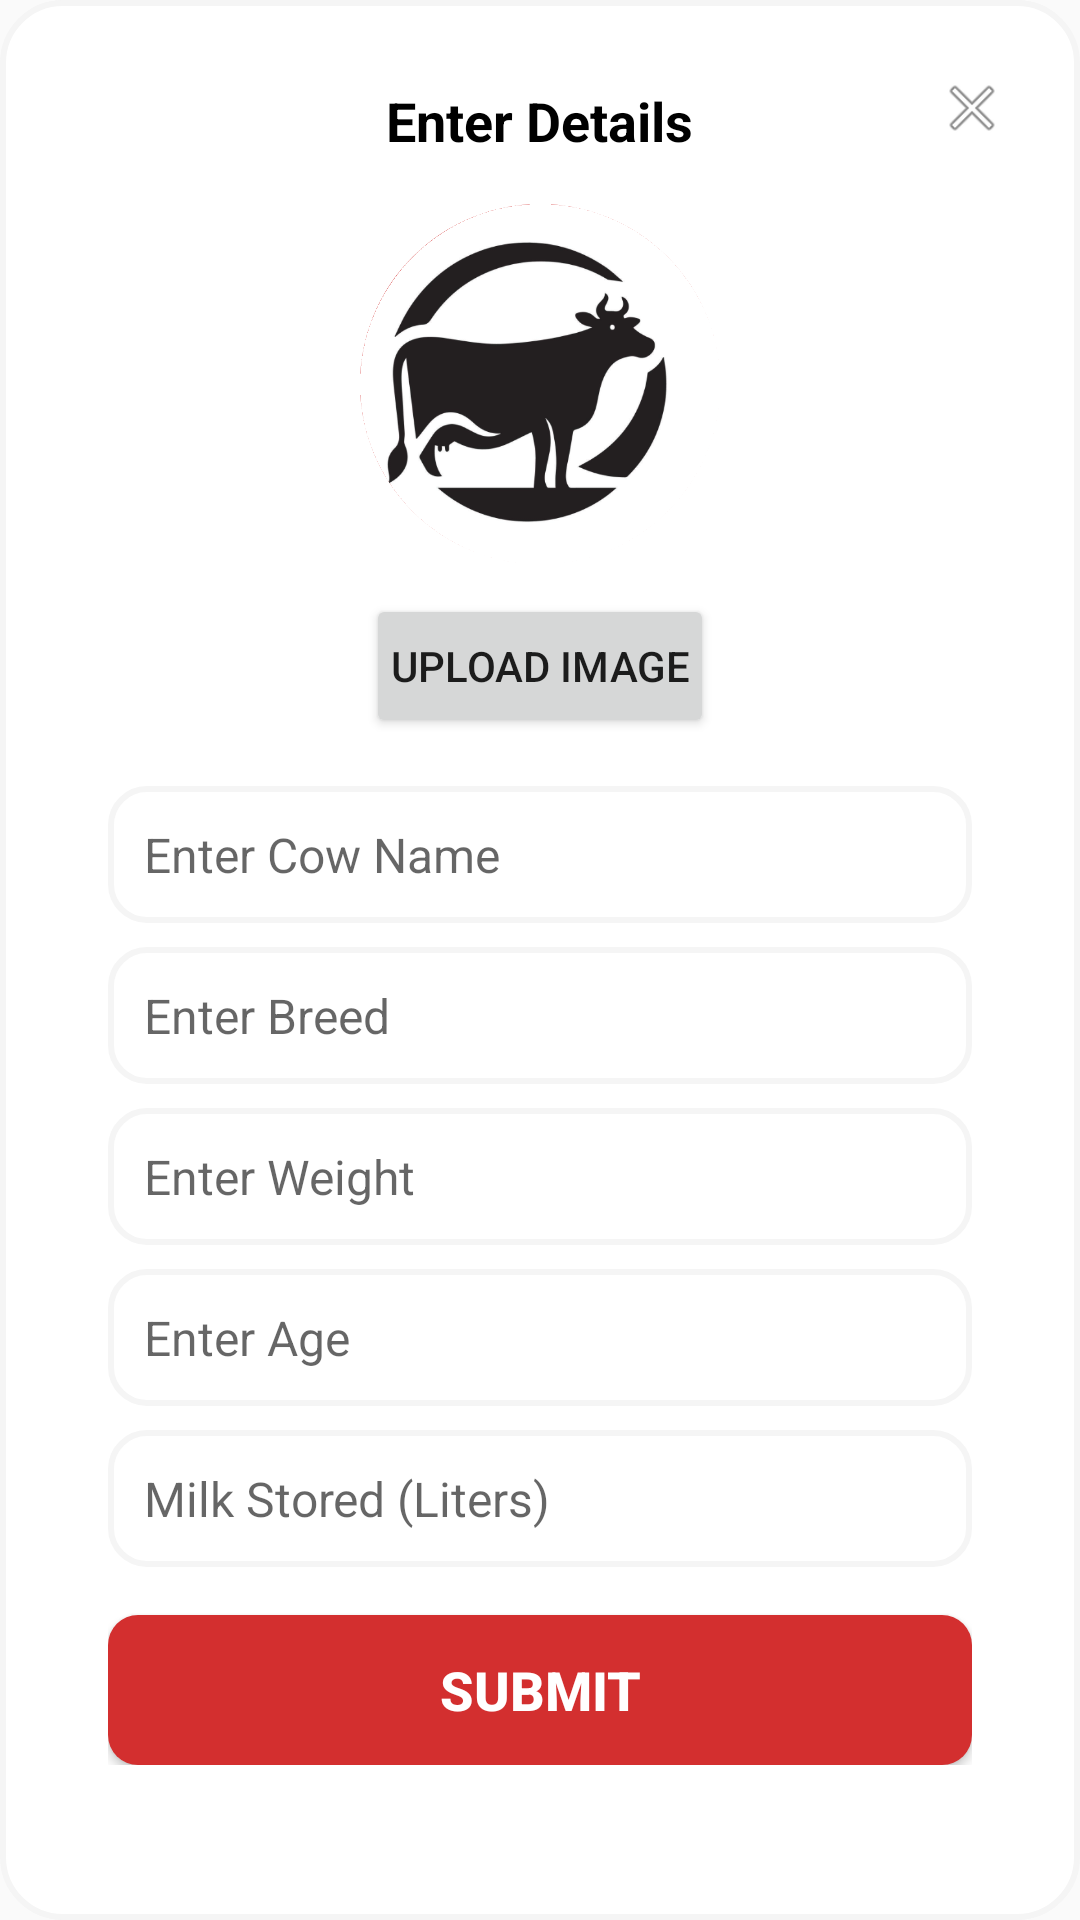

Where icons sit on this 1080 x 1920 app screen, as (x1, y1, x2, y2):
Close Dialog: (949, 85, 995, 131)
